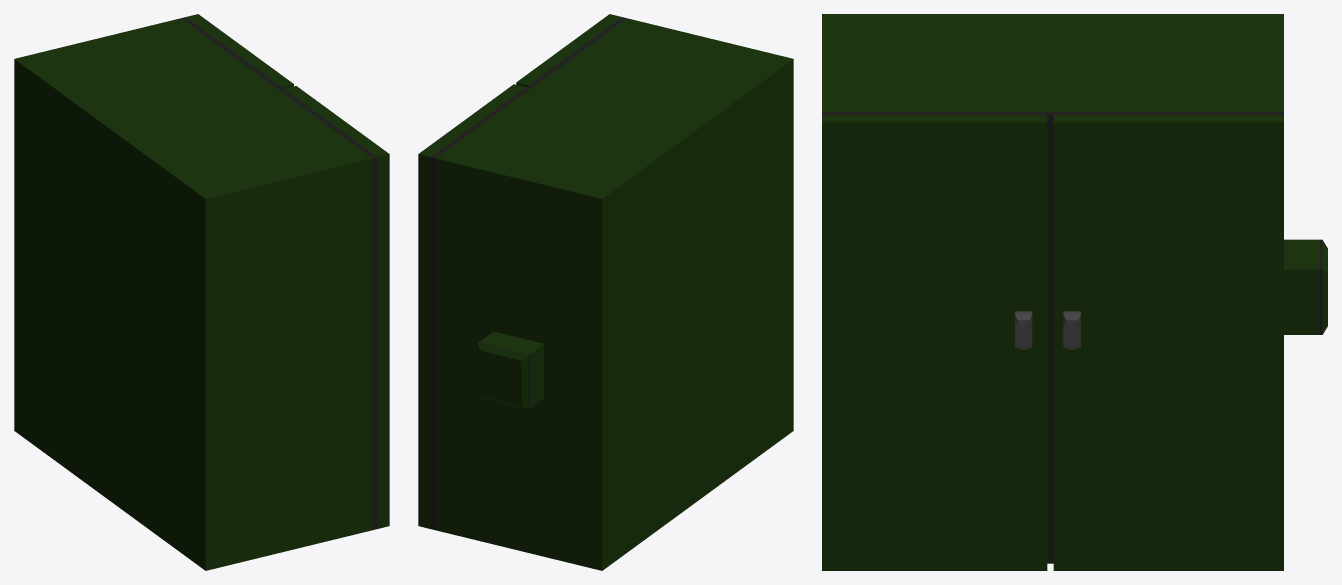
Rendered from ElectricalUtilityBox2.fbx.
3 views of the same model, side by side, from view 1: azimuth 30°, elevation 25°; view 2: azimuth 150°, elevation 25°; view 3: azimuth 270°, elevation 25° (orthographic). The views are drawn at different scales.
Visible parts, largest first — view 1: UtlityBox2; view 2: UtlityBox2; view 3: UtlityBox2.
Boxes of the visible parts, <box> form: UtlityBox2: <box>14,14,389,570</box>; UtlityBox2: <box>418,14,793,570</box>; UtlityBox2: <box>822,14,1327,570</box>.
Size of the model in its own units: 295 by 534 by 546.
